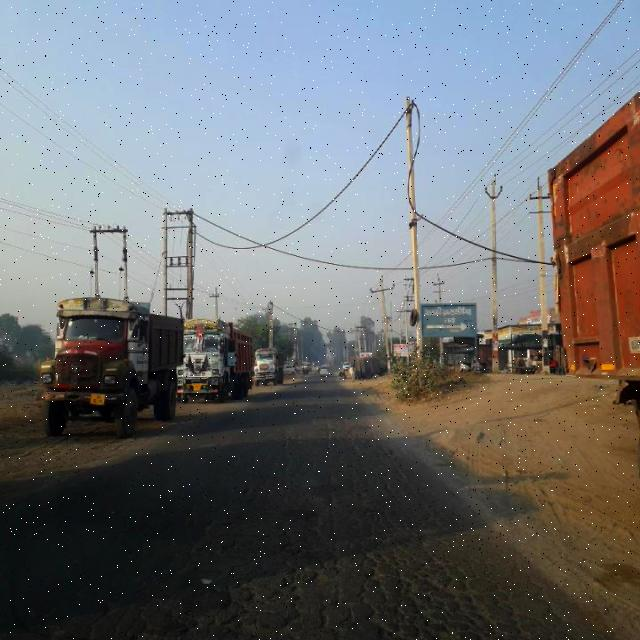D20: (13, 450, 543, 636)
